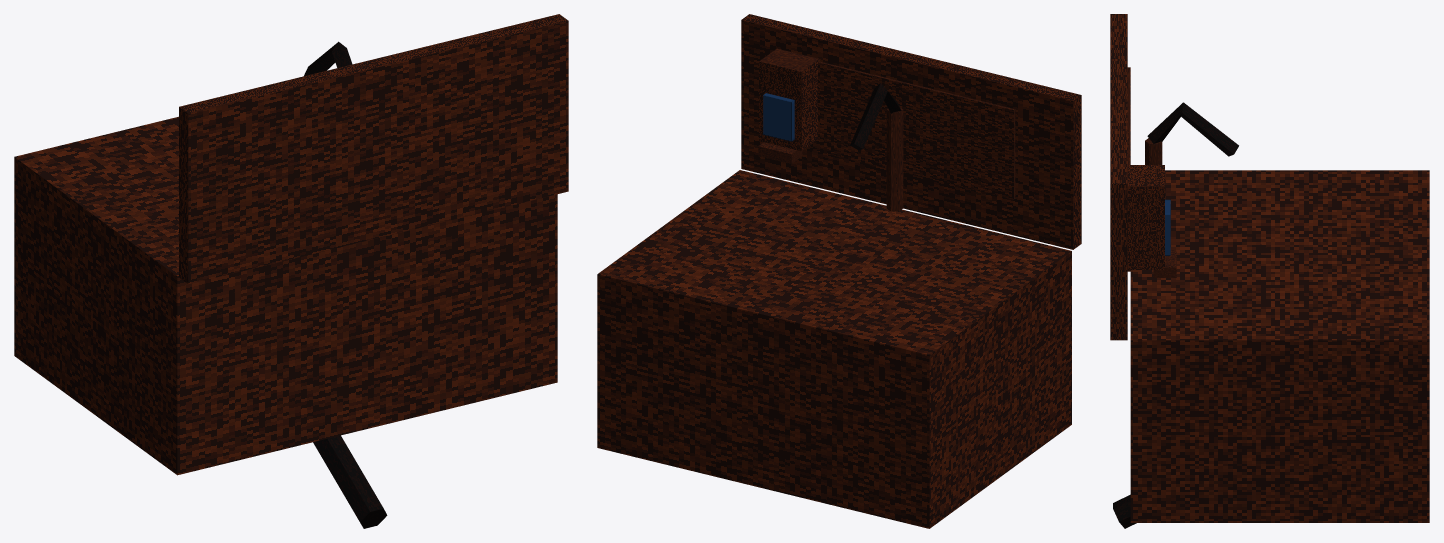
The model's file is scrub_sink_derelict_decay.glb.
3 views of the same model, side by side, from view 1: azimuth 30°, elevation 25°; view 2: azimuth 150°, elevation 25°; view 3: azimuth 270°, elevation 25° (orthographic). The views are drawn at different scales.
Visible parts, largest first — view 1: scrub_sink_derelict_decay; view 2: scrub_sink_derelict_decay; view 3: scrub_sink_derelict_decay.
Part boxes in pixels (x1,y1,x2,y2): scrub_sink_derelict_decay: (14, 14, 568, 528); scrub_sink_derelict_decay: (597, 14, 1081, 528); scrub_sink_derelict_decay: (1110, 14, 1429, 528).
Size of the model in its own units: 0.7 by 0.8191 by 0.555.
Materials: 4 (4 with a texture image).
